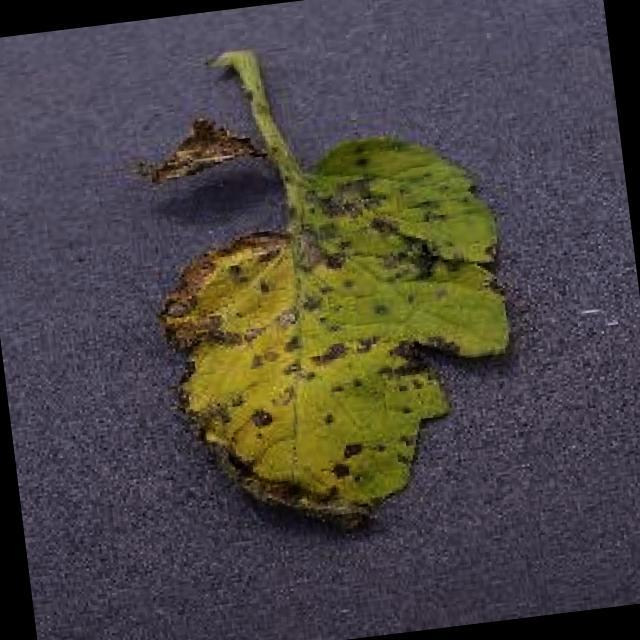Tomato Septoria spot leaf: (139, 118, 533, 548)
